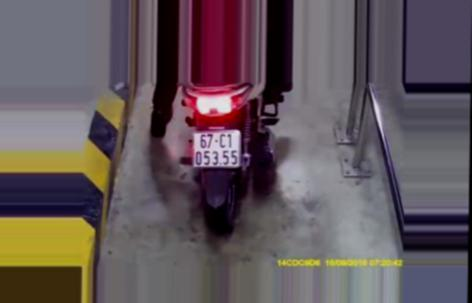License_Plate: (187, 128, 245, 170)
